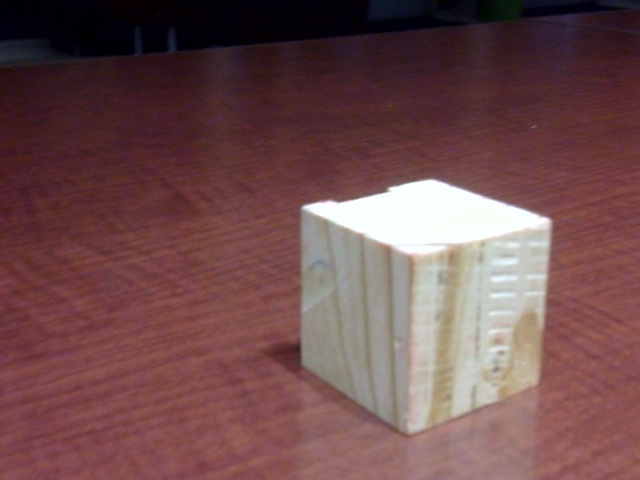NormalBlock: (301, 210, 545, 434)
